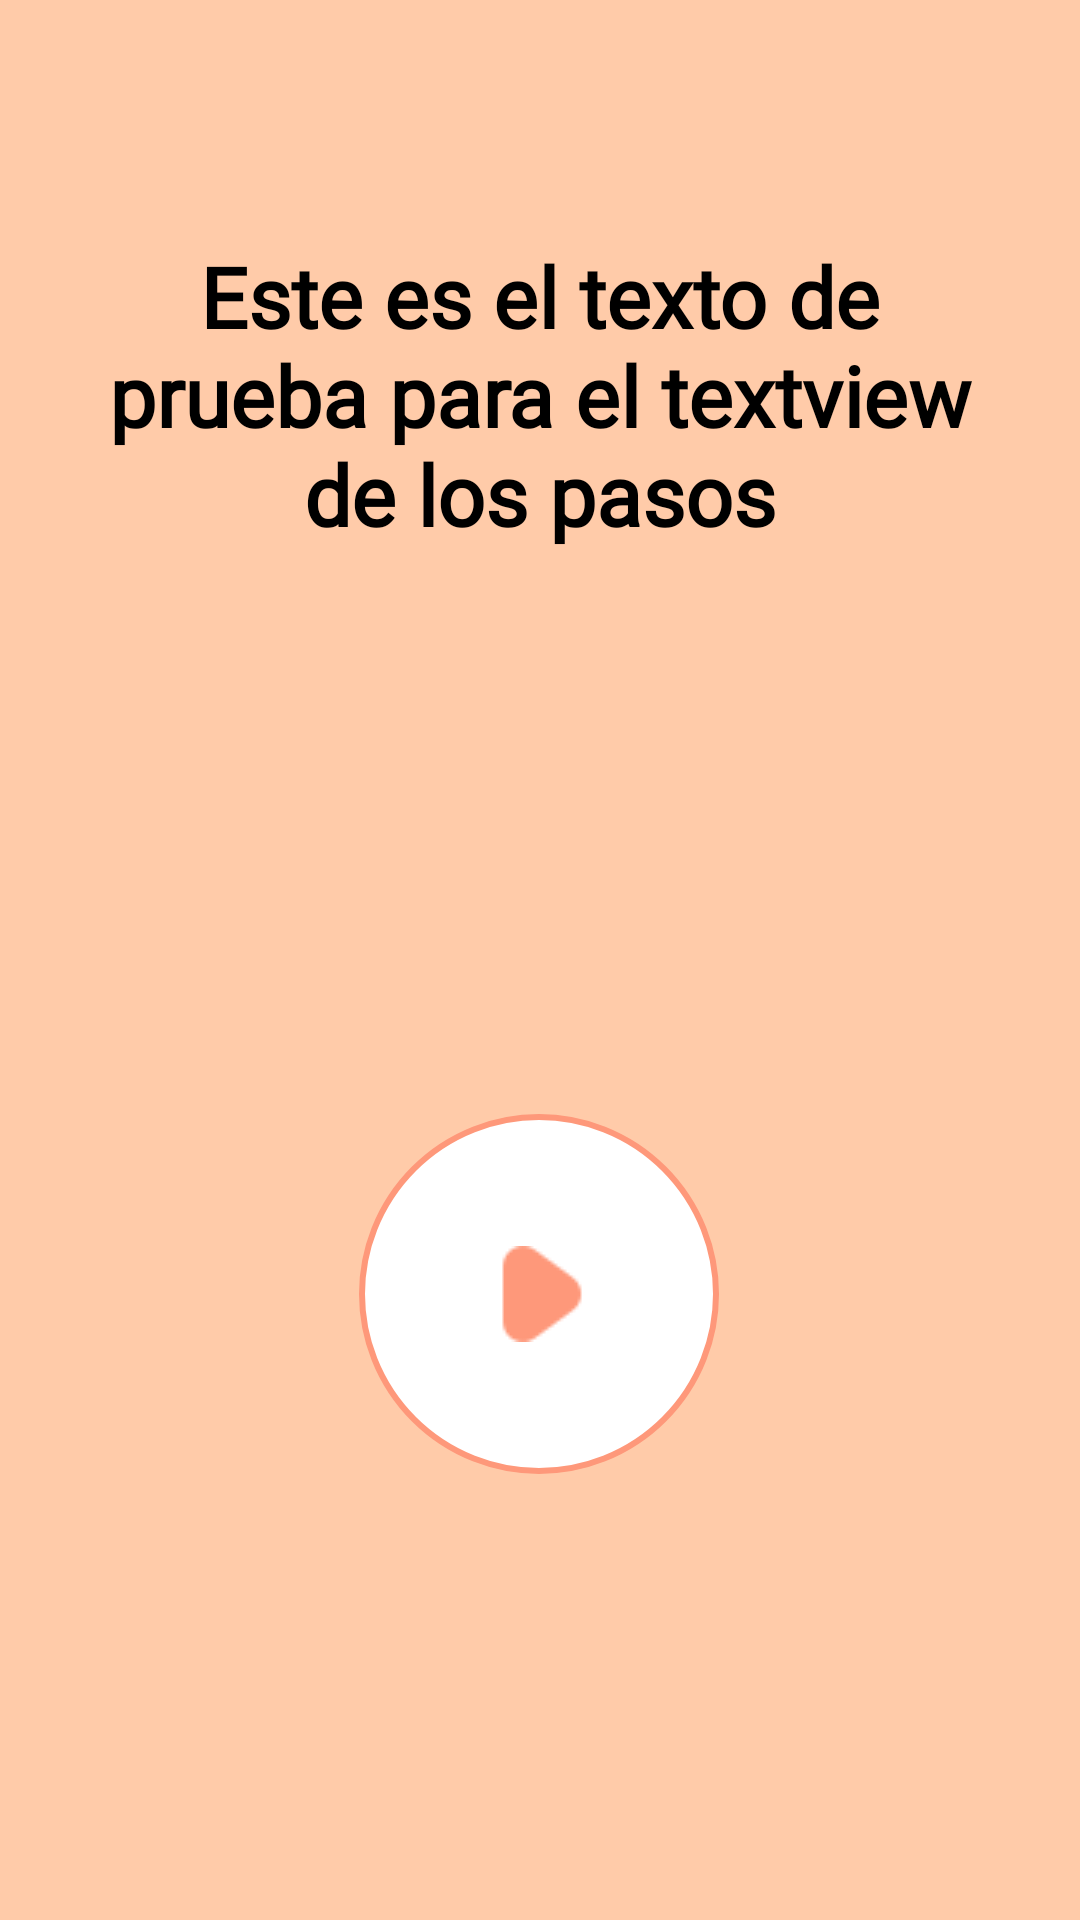

Icons on this 1080x1920 Android screen, each with its box as {"x1": x1, "y1": y1, "x2": x2, "y2": y2}:
siguiente: {"x1": 359, "y1": 1114, "x2": 719, "y2": 1474}
